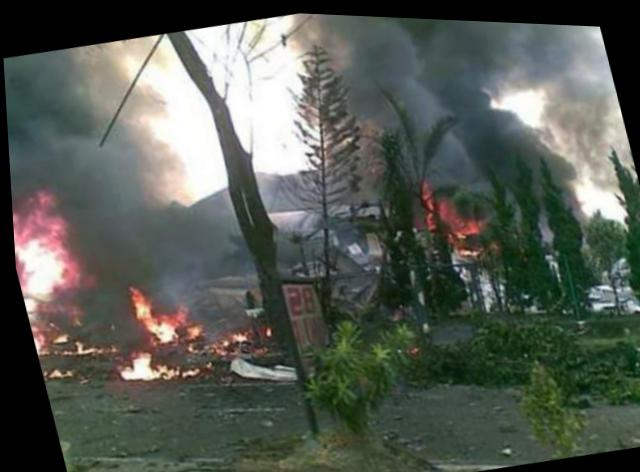fire: (126, 288, 153, 332), (148, 311, 180, 342), (125, 352, 154, 381), (147, 358, 179, 380), (452, 213, 481, 234), (223, 326, 246, 341), (182, 322, 202, 337), (175, 364, 198, 376), (114, 366, 129, 380)
